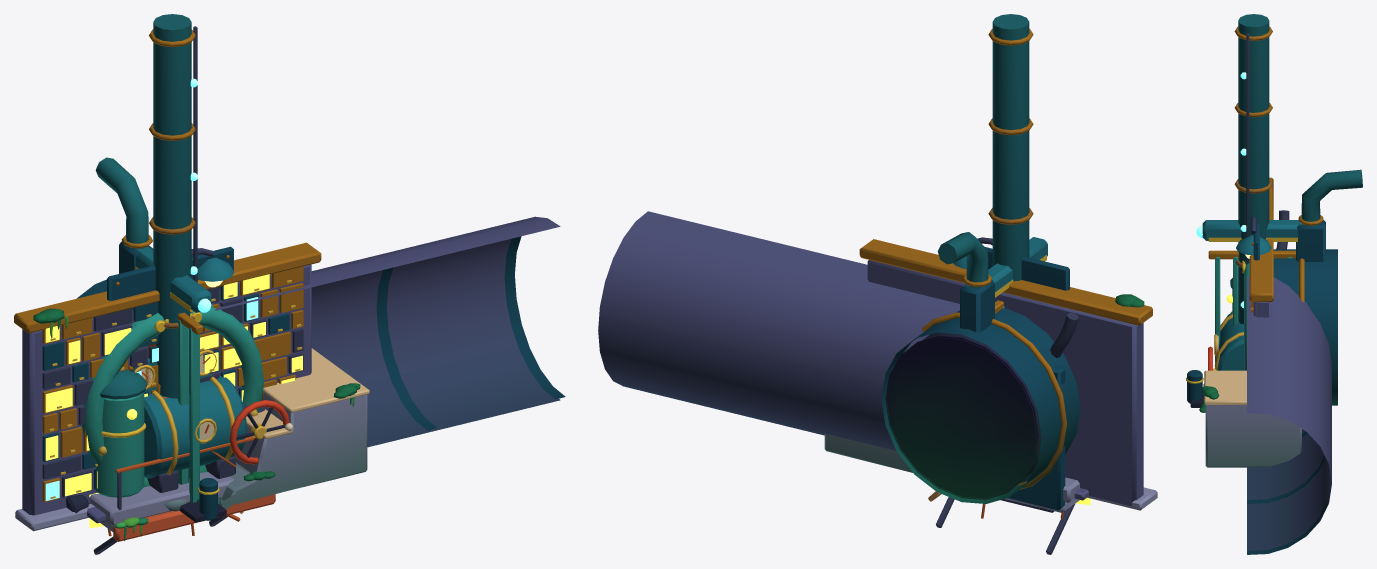
File: works-co3HKlvd.glb
3 renders of one model, left to right at view 1: azimuth 30°, elevation 25°; view 2: azimuth 150°, elevation 25°; view 3: azimuth 270°, elevation 25°, orthographic. The views are drawn at different scales.
Parts seen in each view (by area): view 1: pipeRun, memorySlab, riser, pumpBody, brokenStair, pipeMouthA, gateFrame, gateBar, pumpLedge, memLit0, wallPanelA, memLit4 (+3 smaller); view 2: pipeRun, pipeMouthA, memorySlab, riser, gateFrame, pumpLedge, brokenStair, wallPanelA, pumpBody; view 3: pipeRun, riser, brokenStair, gateFrame, pipeMouthA, memorySlab, pumpBody, gateBar, lampPost, wallPanelA.
Part boxes in pixels (box(x1,y1,x2,y2)): pipeRun: box(215, 216, 565, 447); memorySlab: box(14, 242, 321, 531); riser: box(149, 14, 197, 477); pumpBody: box(89, 375, 264, 525); brokenStair: box(164, 348, 369, 511); pipeMouthA: box(77, 279, 263, 486); gateFrame: box(95, 157, 226, 522); gateBar: box(177, 312, 203, 502); pumpLedge: box(93, 436, 275, 554); memLit0: box(45, 326, 91, 500); wallPanelA: box(107, 246, 233, 373); memLit4: box(223, 274, 269, 401); pipeRun: box(598, 211, 959, 450); pipeMouthA: box(881, 308, 1080, 503); memorySlab: box(859, 239, 1157, 510); riser: box(988, 14, 1033, 281); gateFrame: box(937, 232, 1048, 332); pumpLedge: box(936, 365, 1079, 554); brokenStair: box(824, 433, 912, 472); wallPanelA: box(985, 247, 1069, 290); pumpBody: box(1050, 313, 1079, 502); pipeRun: box(1247, 276, 1331, 554); riser: box(1234, 14, 1272, 324); brokenStair: box(1199, 370, 1301, 467); gateFrame: box(1186, 169, 1362, 407); pipeMouthA: box(1244, 249, 1337, 405); memorySlab: box(1249, 177, 1273, 317); pumpBody: box(1214, 210, 1289, 370); gateBar: box(1208, 250, 1295, 368); lampPost: box(1236, 217, 1271, 255); wallPanelA: box(1251, 223, 1259, 260).
Bounding box in the file's own units: 8.38 × 7.92 × 2.94.
